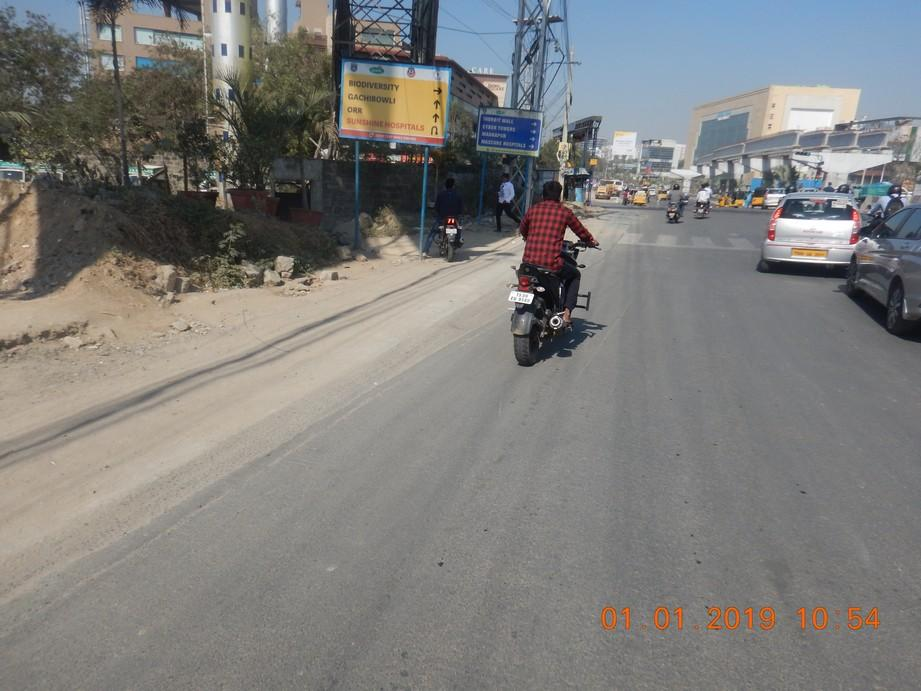plate: (508, 289, 535, 304)
